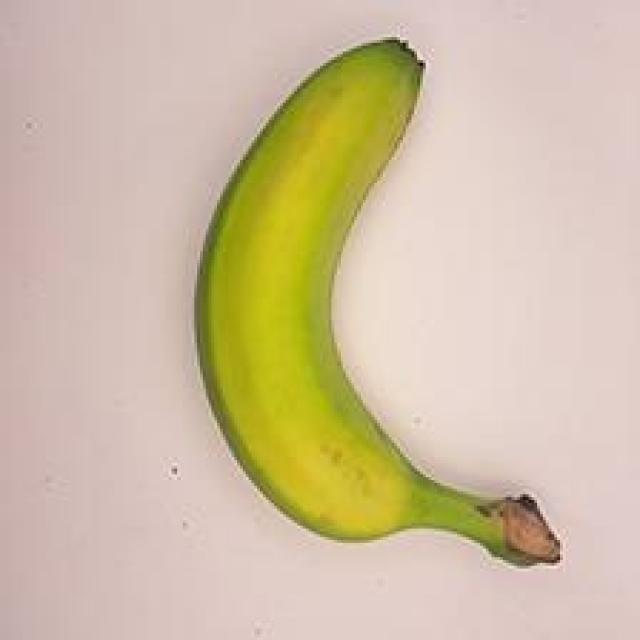Unripe: (138, 28, 590, 592)
